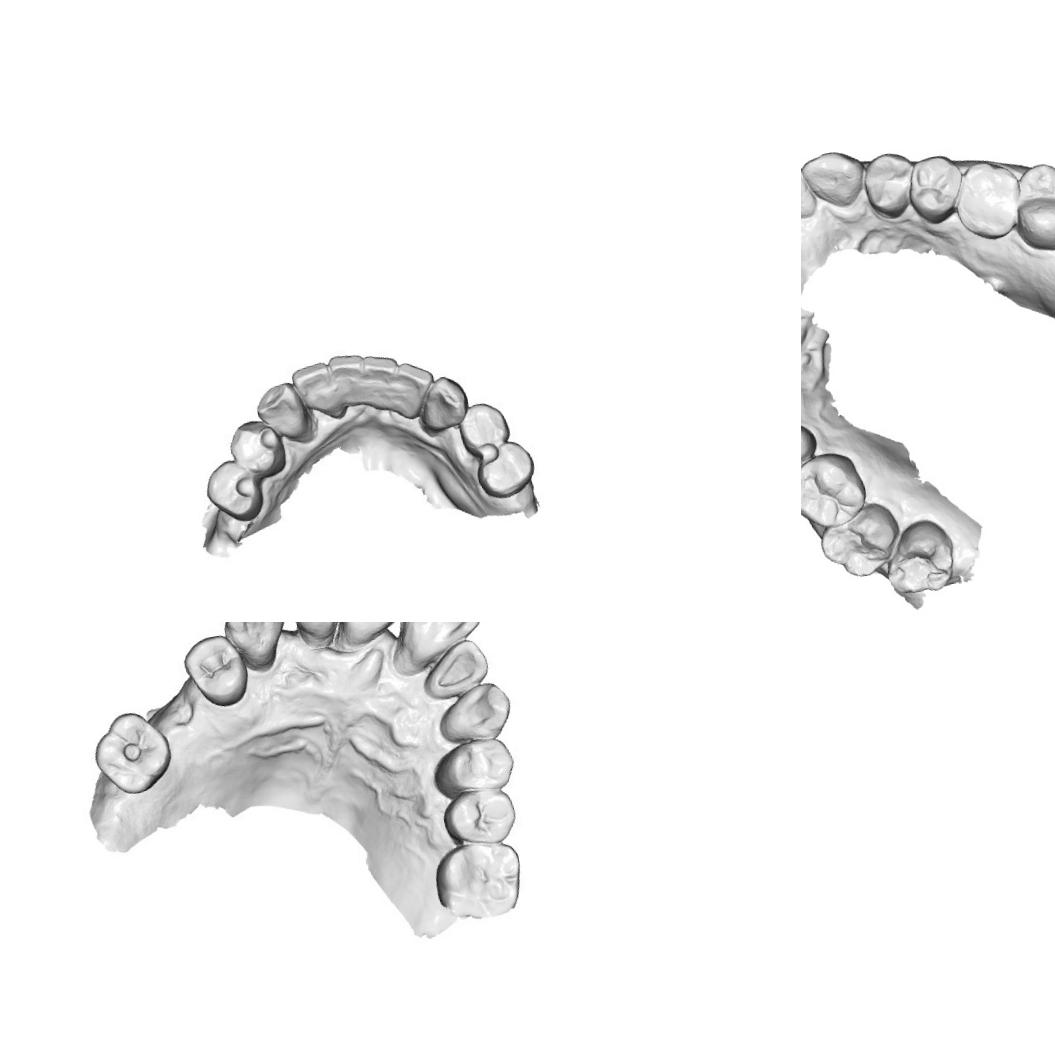canine: (427, 677, 519, 747), (801, 144, 869, 214), (251, 376, 315, 449), (218, 622, 291, 677), (412, 370, 472, 434)
incisor: (415, 634, 495, 700), (387, 622, 489, 665), (323, 622, 425, 657), (287, 354, 338, 419), (391, 357, 442, 419), (356, 351, 404, 411), (326, 349, 373, 409), (281, 622, 358, 643), (801, 157, 819, 225)
molar: (424, 834, 532, 926), (87, 704, 180, 804), (814, 498, 906, 584), (947, 154, 1029, 246), (877, 514, 960, 598), (801, 446, 872, 533), (1005, 156, 1055, 256)
premolar: (180, 628, 254, 712), (435, 786, 522, 852), (428, 735, 516, 799), (902, 150, 970, 228), (200, 454, 268, 530), (223, 412, 292, 486), (470, 433, 540, 504), (858, 148, 922, 222), (453, 395, 511, 457), (801, 417, 822, 484)
